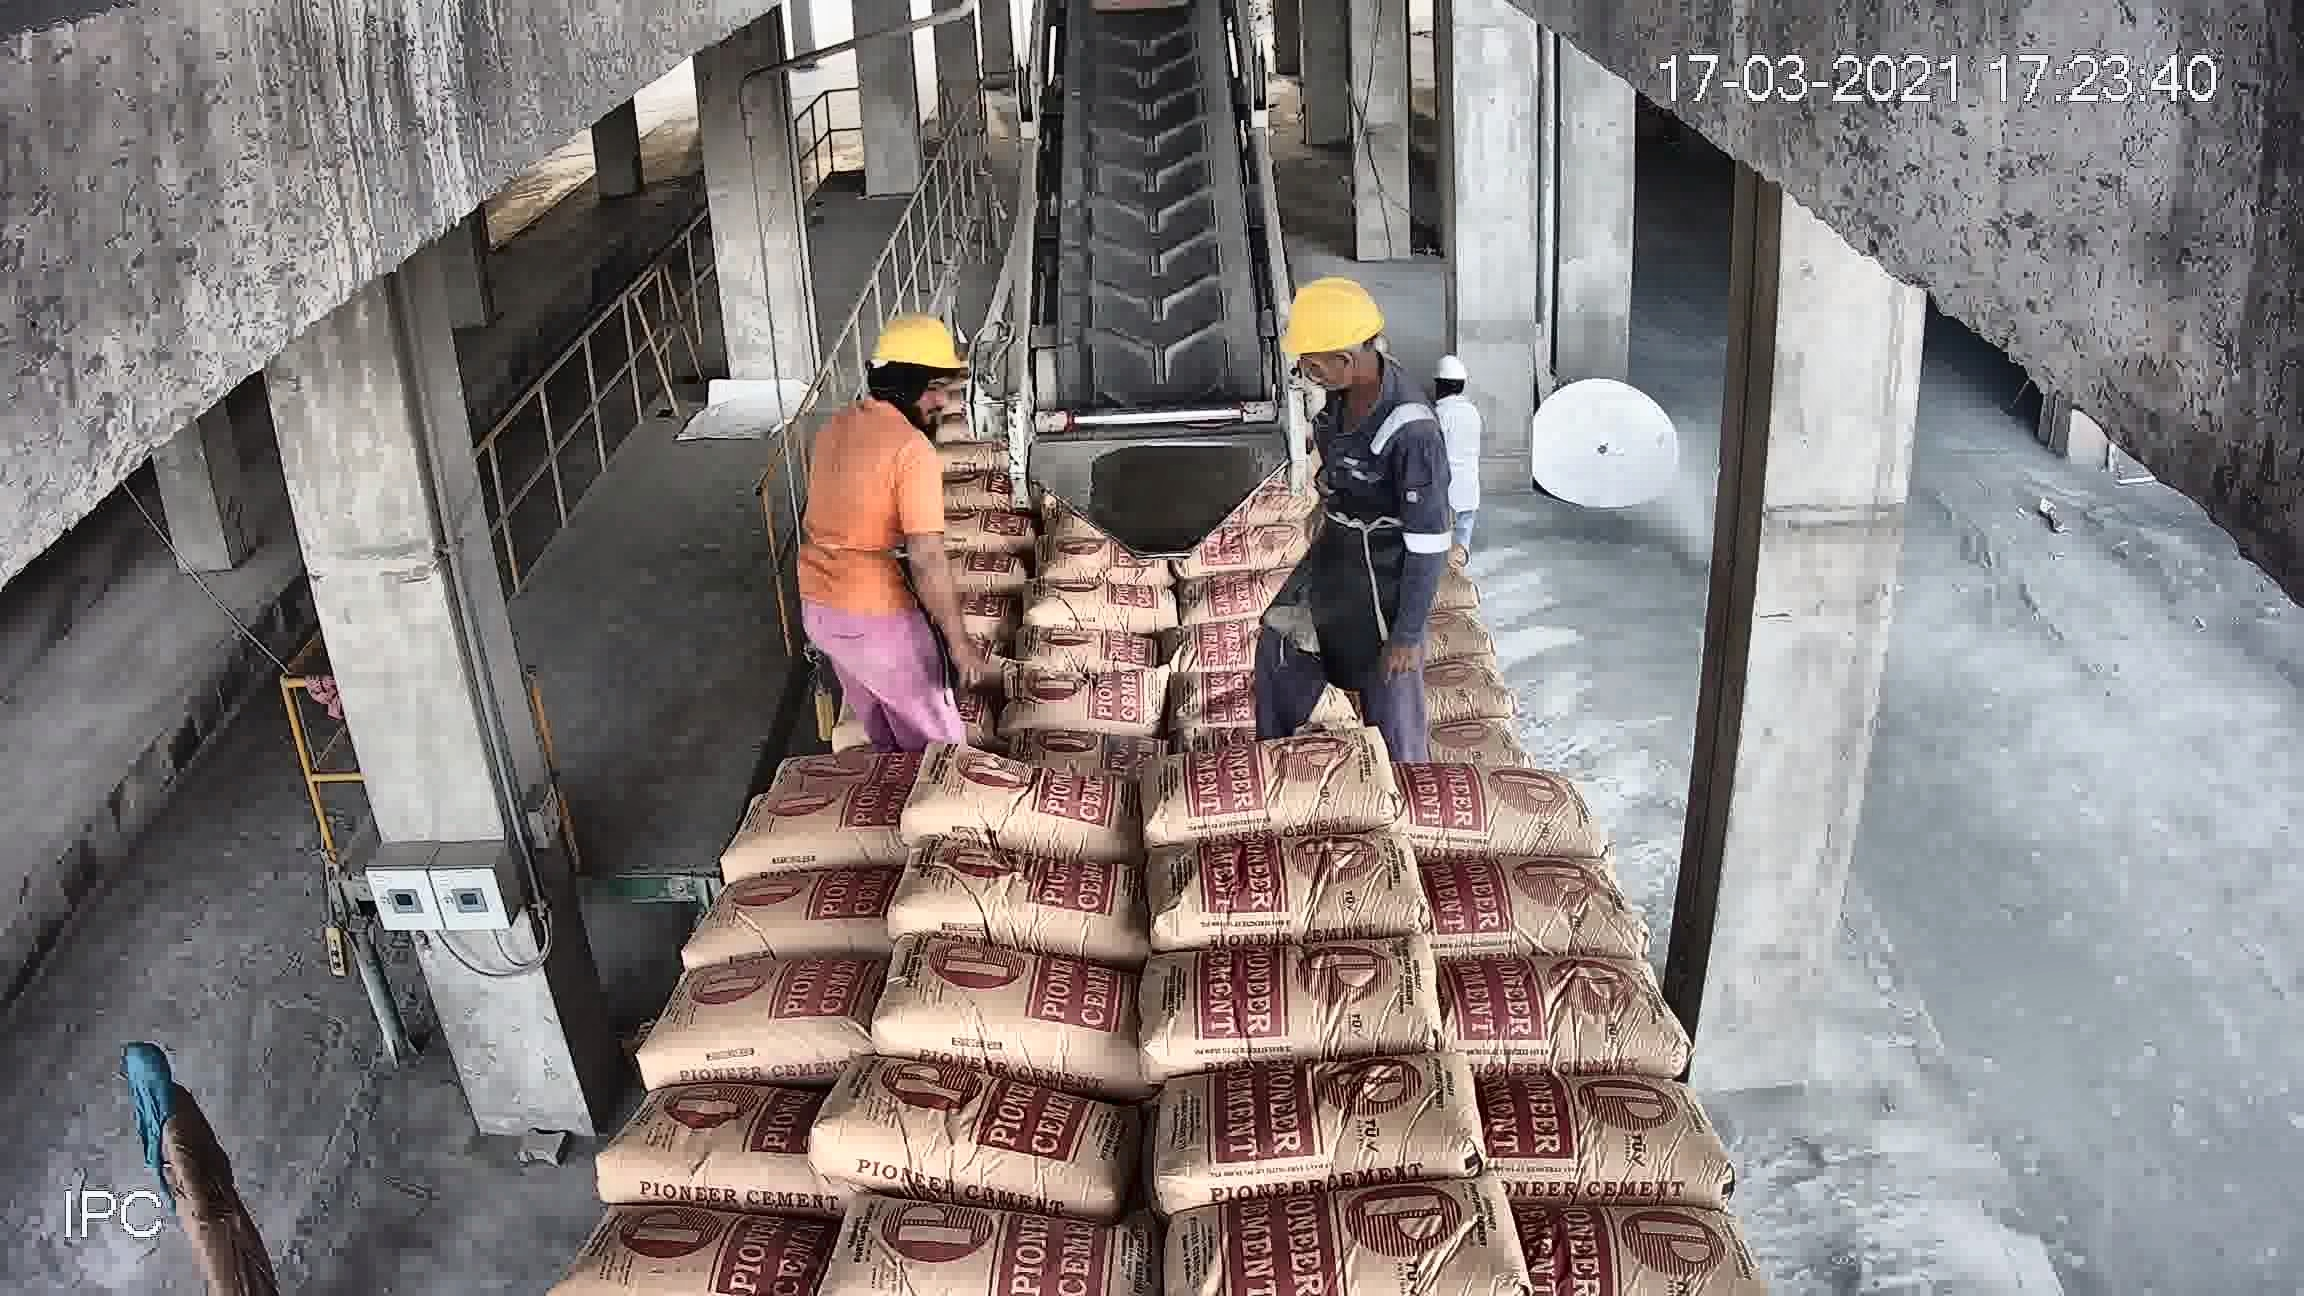bag: (1043, 17, 1250, 364), (1112, 328, 1269, 424), (1089, 38, 1196, 116)
bag_h: (1146, 1173, 1525, 1296), (1462, 1052, 1722, 1217), (1135, 938, 1434, 1078), (1176, 1067, 1484, 1193), (837, 1065, 1112, 1203), (1154, 818, 1426, 949), (870, 956, 1150, 1068), (837, 1198, 1116, 1296), (1468, 1207, 1775, 1296), (663, 962, 900, 1074), (589, 1097, 818, 1212), (554, 1201, 818, 1294), (1146, 661, 1377, 764), (1453, 951, 1676, 1057), (1154, 737, 1385, 839), (1168, 581, 1380, 684), (888, 847, 1112, 934), (910, 753, 1152, 834), (745, 687, 927, 791), (1435, 847, 1617, 949), (954, 609, 1158, 699), (685, 881, 896, 954), (1413, 767, 1589, 855), (1369, 692, 1573, 766), (745, 779, 904, 873), (932, 684, 1135, 752), (1155, 525, 1343, 598), (791, 638, 951, 718), (1141, 494, 1340, 554), (828, 517, 961, 598), (1391, 620, 1524, 701), (964, 502, 1135, 563), (984, 570, 1152, 627), (820, 584, 972, 644), (1033, 460, 1184, 517), (1348, 508, 1492, 567), (1304, 380, 1421, 438), (1041, 385, 1169, 434), (1359, 459, 1446, 529), (1025, 430, 1166, 472), (1393, 565, 1524, 608), (1331, 407, 1434, 460), (1320, 362, 1421, 411), (1348, 434, 1468, 475), (1288, 321, 1385, 361), (1336, 342, 1400, 391)
